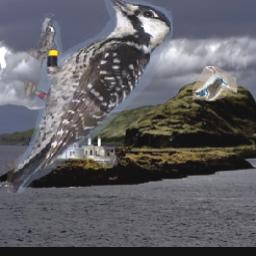Swallow: (194, 67, 238, 102)
Woodpecker: (8, 0, 174, 193)
